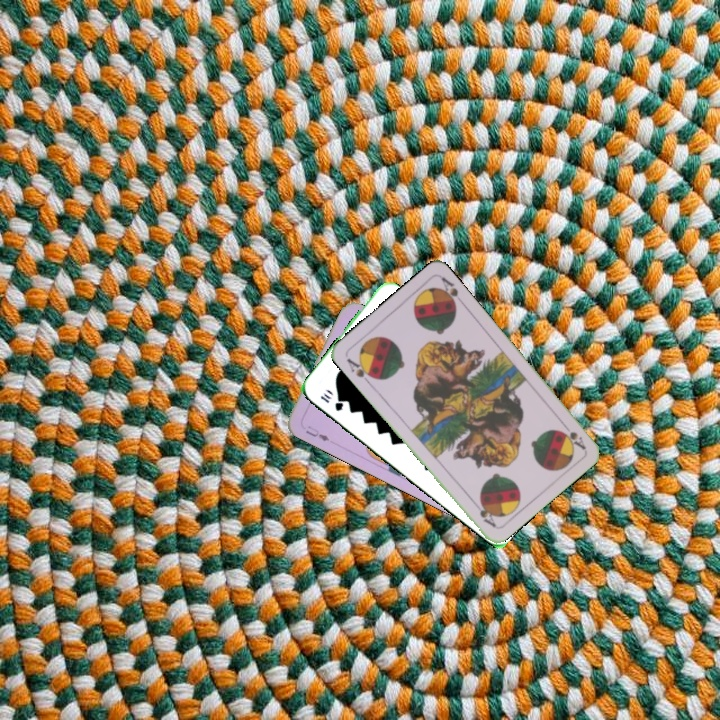EU: (301, 422, 332, 444)
G10: (316, 388, 346, 414)
SA: (342, 354, 378, 387), (556, 418, 588, 453)
